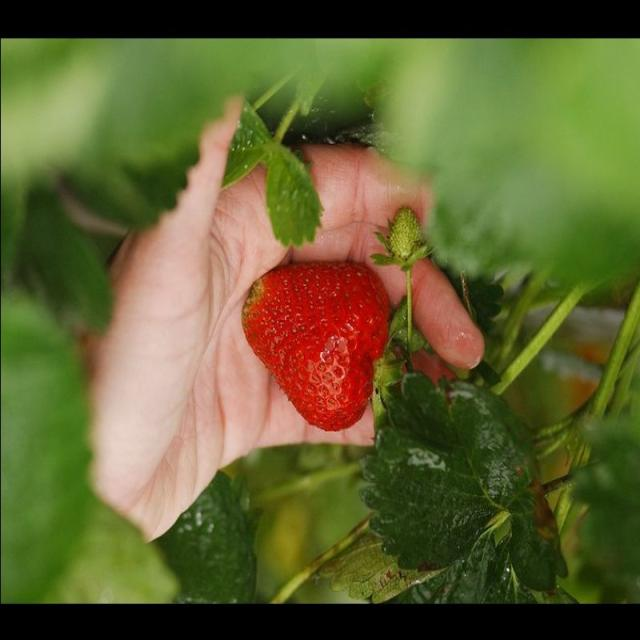strawberry: (202, 209, 448, 487)
